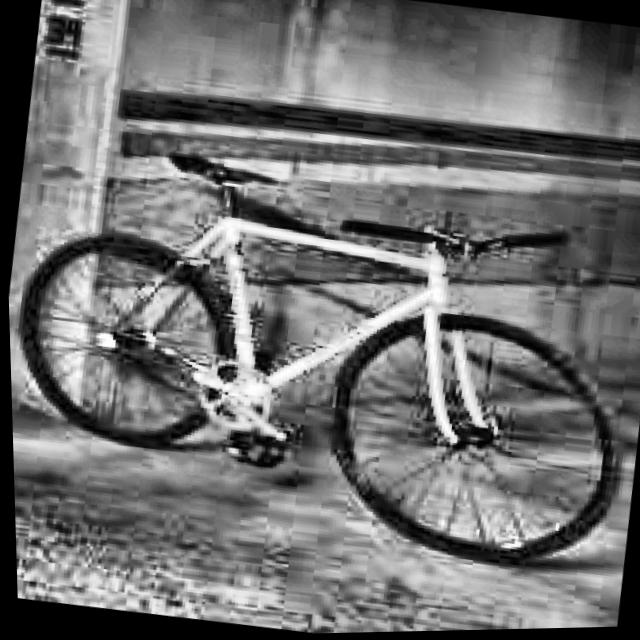bike: (3, 116, 640, 581)
